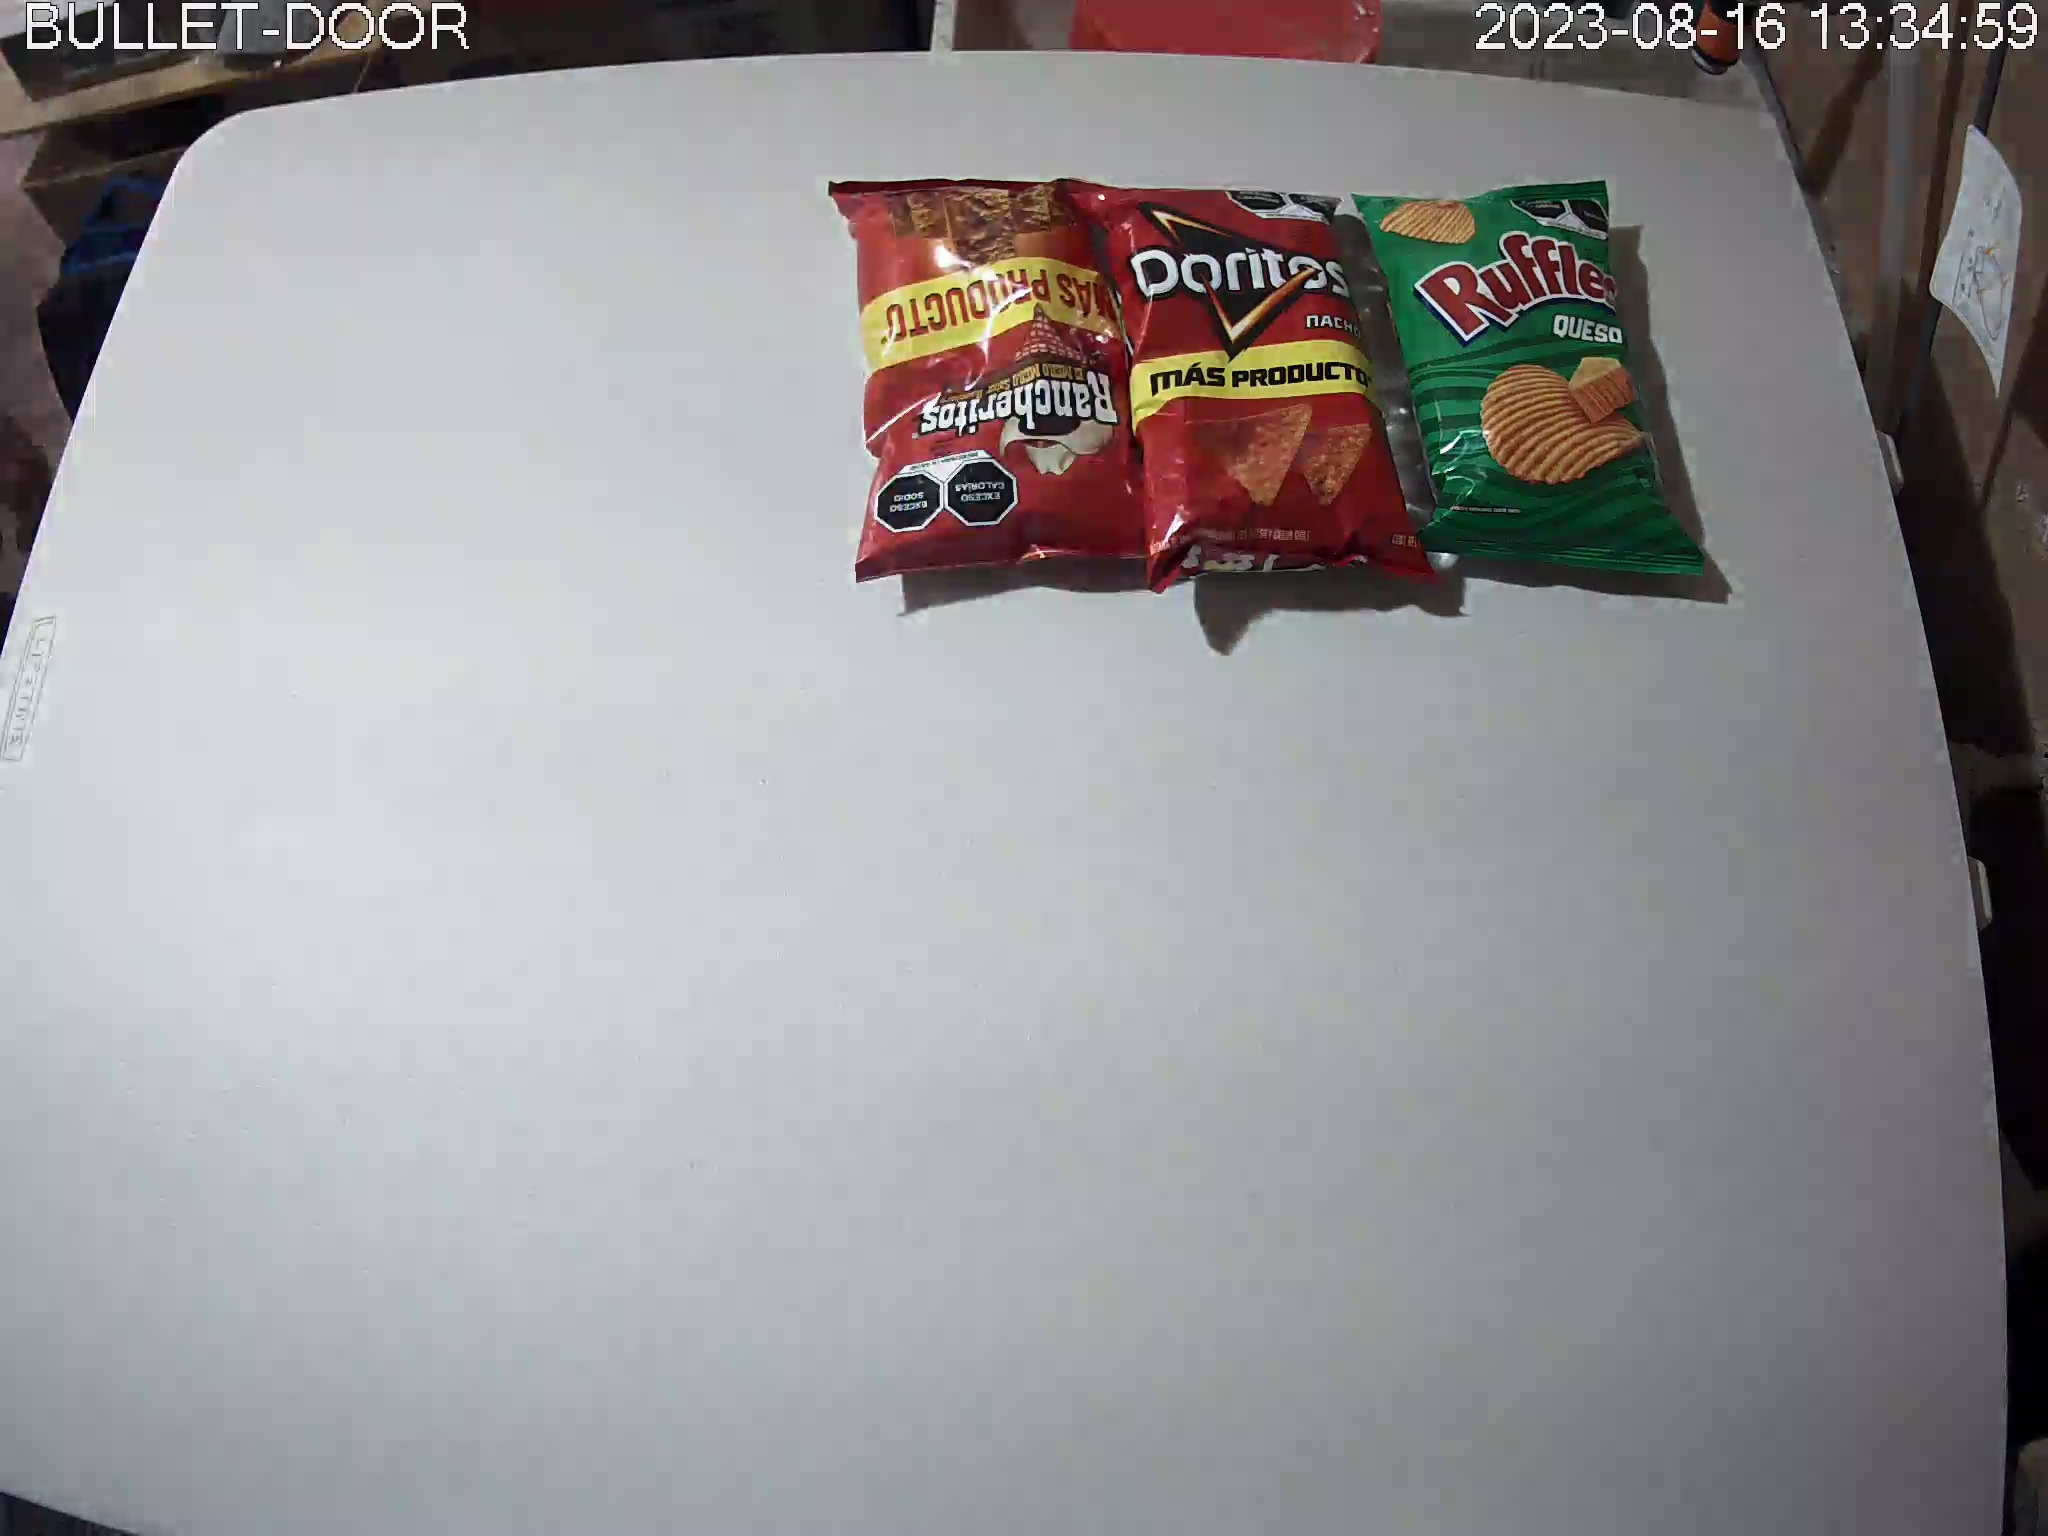DoritosN_61_F: (1061, 174, 1434, 595)
Rancheritos_58_F: (826, 177, 1171, 584)
RufflesQ_48_F: (1350, 177, 1714, 579)
